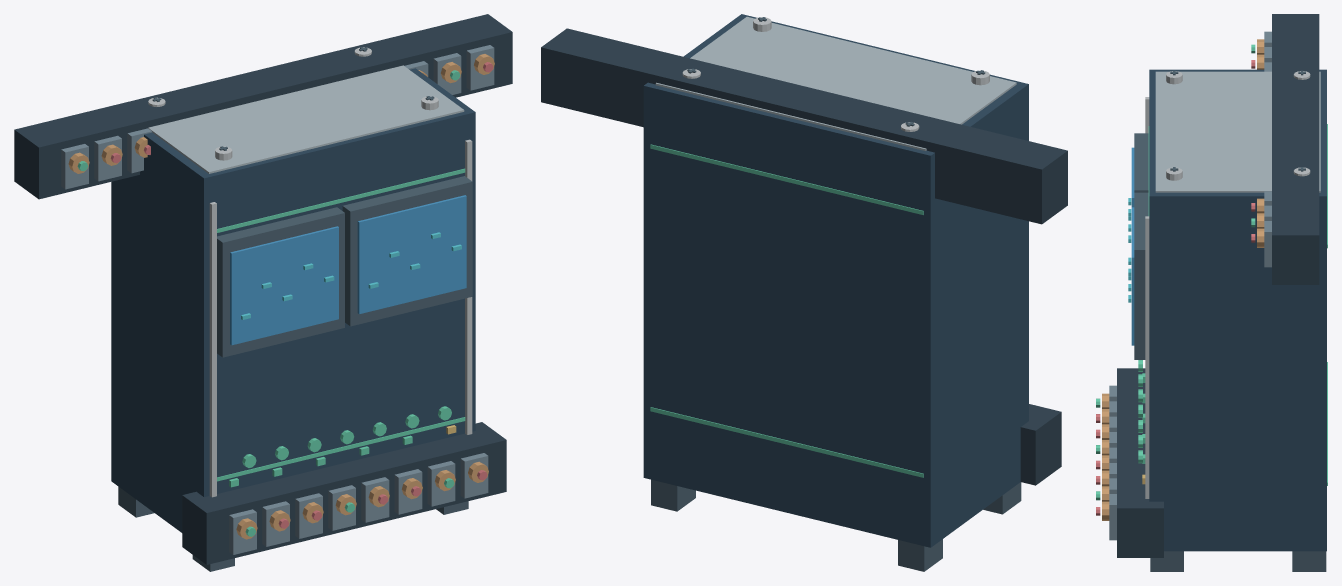
Rendered from 63_L78_Regulated5VControlSupply.glb.
3 views of the same model, side by side, from view 1: azimuth 30°, elevation 25°; view 2: azimuth 150°, elevation 25°; view 3: azimuth 270°, elevation 25° (orthographic). The views are drawn at different scales.
Parts seen in each view (by area): view 1: Regulated5VControlSupply_Node_0000, Regulated5VControlSupply_Node_0007, Regulated5VControlSupply_Node_0049, Regulated5VControlSupply_Node_0080, Regulated5VControlSupply_Node_0032, Regulated5VControlSupply_Node_0025, Regulated5VControlSupply_Node_0105, Regulated5VControlSupply_Node_0031, Regulated5VControlSupply_Node_0024, Regulated5VControlSupply_Node_0005, Regulated5VControlSupply_Node_0006, Regulated5VControlSupply_Node_0021 (+13 smaller); view 2: Regulated5VControlSupply_Node_0000, Regulated5VControlSupply_Node_0080, Regulated5VControlSupply_Node_0007, Regulated5VControlSupply_Node_0105, Regulated5VControlSupply_Node_0049, Regulated5VControlSupply_Node_0020, Regulated5VControlSupply_Node_0022, Regulated5VControlSupply_Node_0045, Regulated5VControlSupply_Node_0047; view 3: Regulated5VControlSupply_Node_0000, Regulated5VControlSupply_Node_0007, Regulated5VControlSupply_Node_0080, Regulated5VControlSupply_Node_0105, Regulated5VControlSupply_Node_0049, Regulated5VControlSupply_Node_0031, Regulated5VControlSupply_Node_0006, Regulated5VControlSupply_Node_0024, Regulated5VControlSupply_Node_0047, Regulated5VControlSupply_Node_0048, Regulated5VControlSupply_Node_0032, Regulated5VControlSupply_Node_0071 (+1 smaller).
Boxes of the visible parts, x1=… form: Regulated5VControlSupply_Node_0000: x1=111, y1=68, x2=475, y2=532; Regulated5VControlSupply_Node_0007: x1=148, y1=65, x2=464, y2=173; Regulated5VControlSupply_Node_0049: x1=182, y1=422, x2=506, y2=564; Regulated5VControlSupply_Node_0080: x1=14, y1=64, x2=338, y2=199; Regulated5VControlSupply_Node_0032: x1=357, y1=195, x2=466, y2=314; Regulated5VControlSupply_Node_0025: x1=230, y1=226, x2=338, y2=345; Regulated5VControlSupply_Node_0105: x1=188, y1=14, x2=512, y2=111; Regulated5VControlSupply_Node_0031: x1=342, y1=176, x2=472, y2=326; Regulated5VControlSupply_Node_0024: x1=217, y1=207, x2=344, y2=357; Regulated5VControlSupply_Node_0005: x1=209, y1=202, x2=216, y2=497; Regulated5VControlSupply_Node_0006: x1=465, y1=139, x2=472, y2=434; Regulated5VControlSupply_Node_0021: x1=217, y1=417, x2=465, y2=481; Regulated5VControlSupply_Node_0000: x1=643, y1=14, x2=1028, y2=547; Regulated5VControlSupply_Node_0080: x1=725, y1=73, x2=1067, y2=224; Regulated5VControlSupply_Node_0007: x1=655, y1=16, x2=1016, y2=150; Regulated5VControlSupply_Node_0105: x1=541, y1=28, x2=881, y2=131; Regulated5VControlSupply_Node_0049: x1=1020, y1=404, x2=1061, y2=485; Regulated5VControlSupply_Node_0020: x1=650, y1=407, x2=923, y2=477; Regulated5VControlSupply_Node_0022: x1=650, y1=144, x2=923, y2=214; Regulated5VControlSupply_Node_0045: x1=898, y1=539, x2=942, y2=571; Regulated5VControlSupply_Node_0047: x1=651, y1=479, x2=695, y2=511; Regulated5VControlSupply_Node_0000: x1=1149, y1=69, x2=1326, y2=551; Regulated5VControlSupply_Node_0007: x1=1155, y1=71, x2=1320, y2=192; Regulated5VControlSupply_Node_0080: x1=1272, y1=14, x2=1319, y2=153; Regulated5VControlSupply_Node_0105: x1=1272, y1=154, x2=1319, y2=284; Regulated5VControlSupply_Node_0049: x1=1117, y1=368, x2=1163, y2=557; Regulated5VControlSupply_Node_0031: x1=1134, y1=192, x2=1148, y2=359; Regulated5VControlSupply_Node_0006: x1=1145, y1=216, x2=1149, y2=498; Regulated5VControlSupply_Node_0024: x1=1134, y1=133, x2=1148, y2=192; Regulated5VControlSupply_Node_0047: x1=1292, y1=551, x2=1326, y2=571; Regulated5VControlSupply_Node_0048: x1=1150, y1=551, x2=1183, y2=571; Regulated5VControlSupply_Node_0032: x1=1131, y1=207, x2=1134, y2=345; Regulated5VControlSupply_Node_0071: x1=1109, y1=494, x2=1116, y2=540.
Size of the model in its own units: 2.01 by 1.65 by 0.8872.
